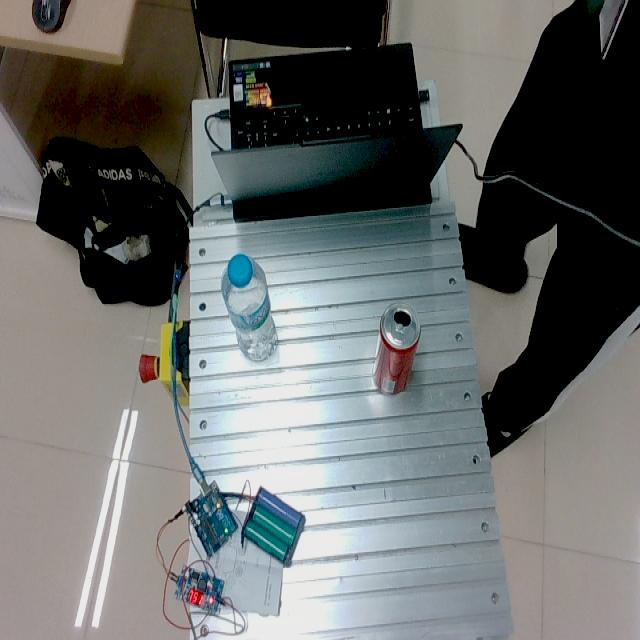coca: (371, 301, 421, 396)
lavie: (221, 252, 277, 361)
